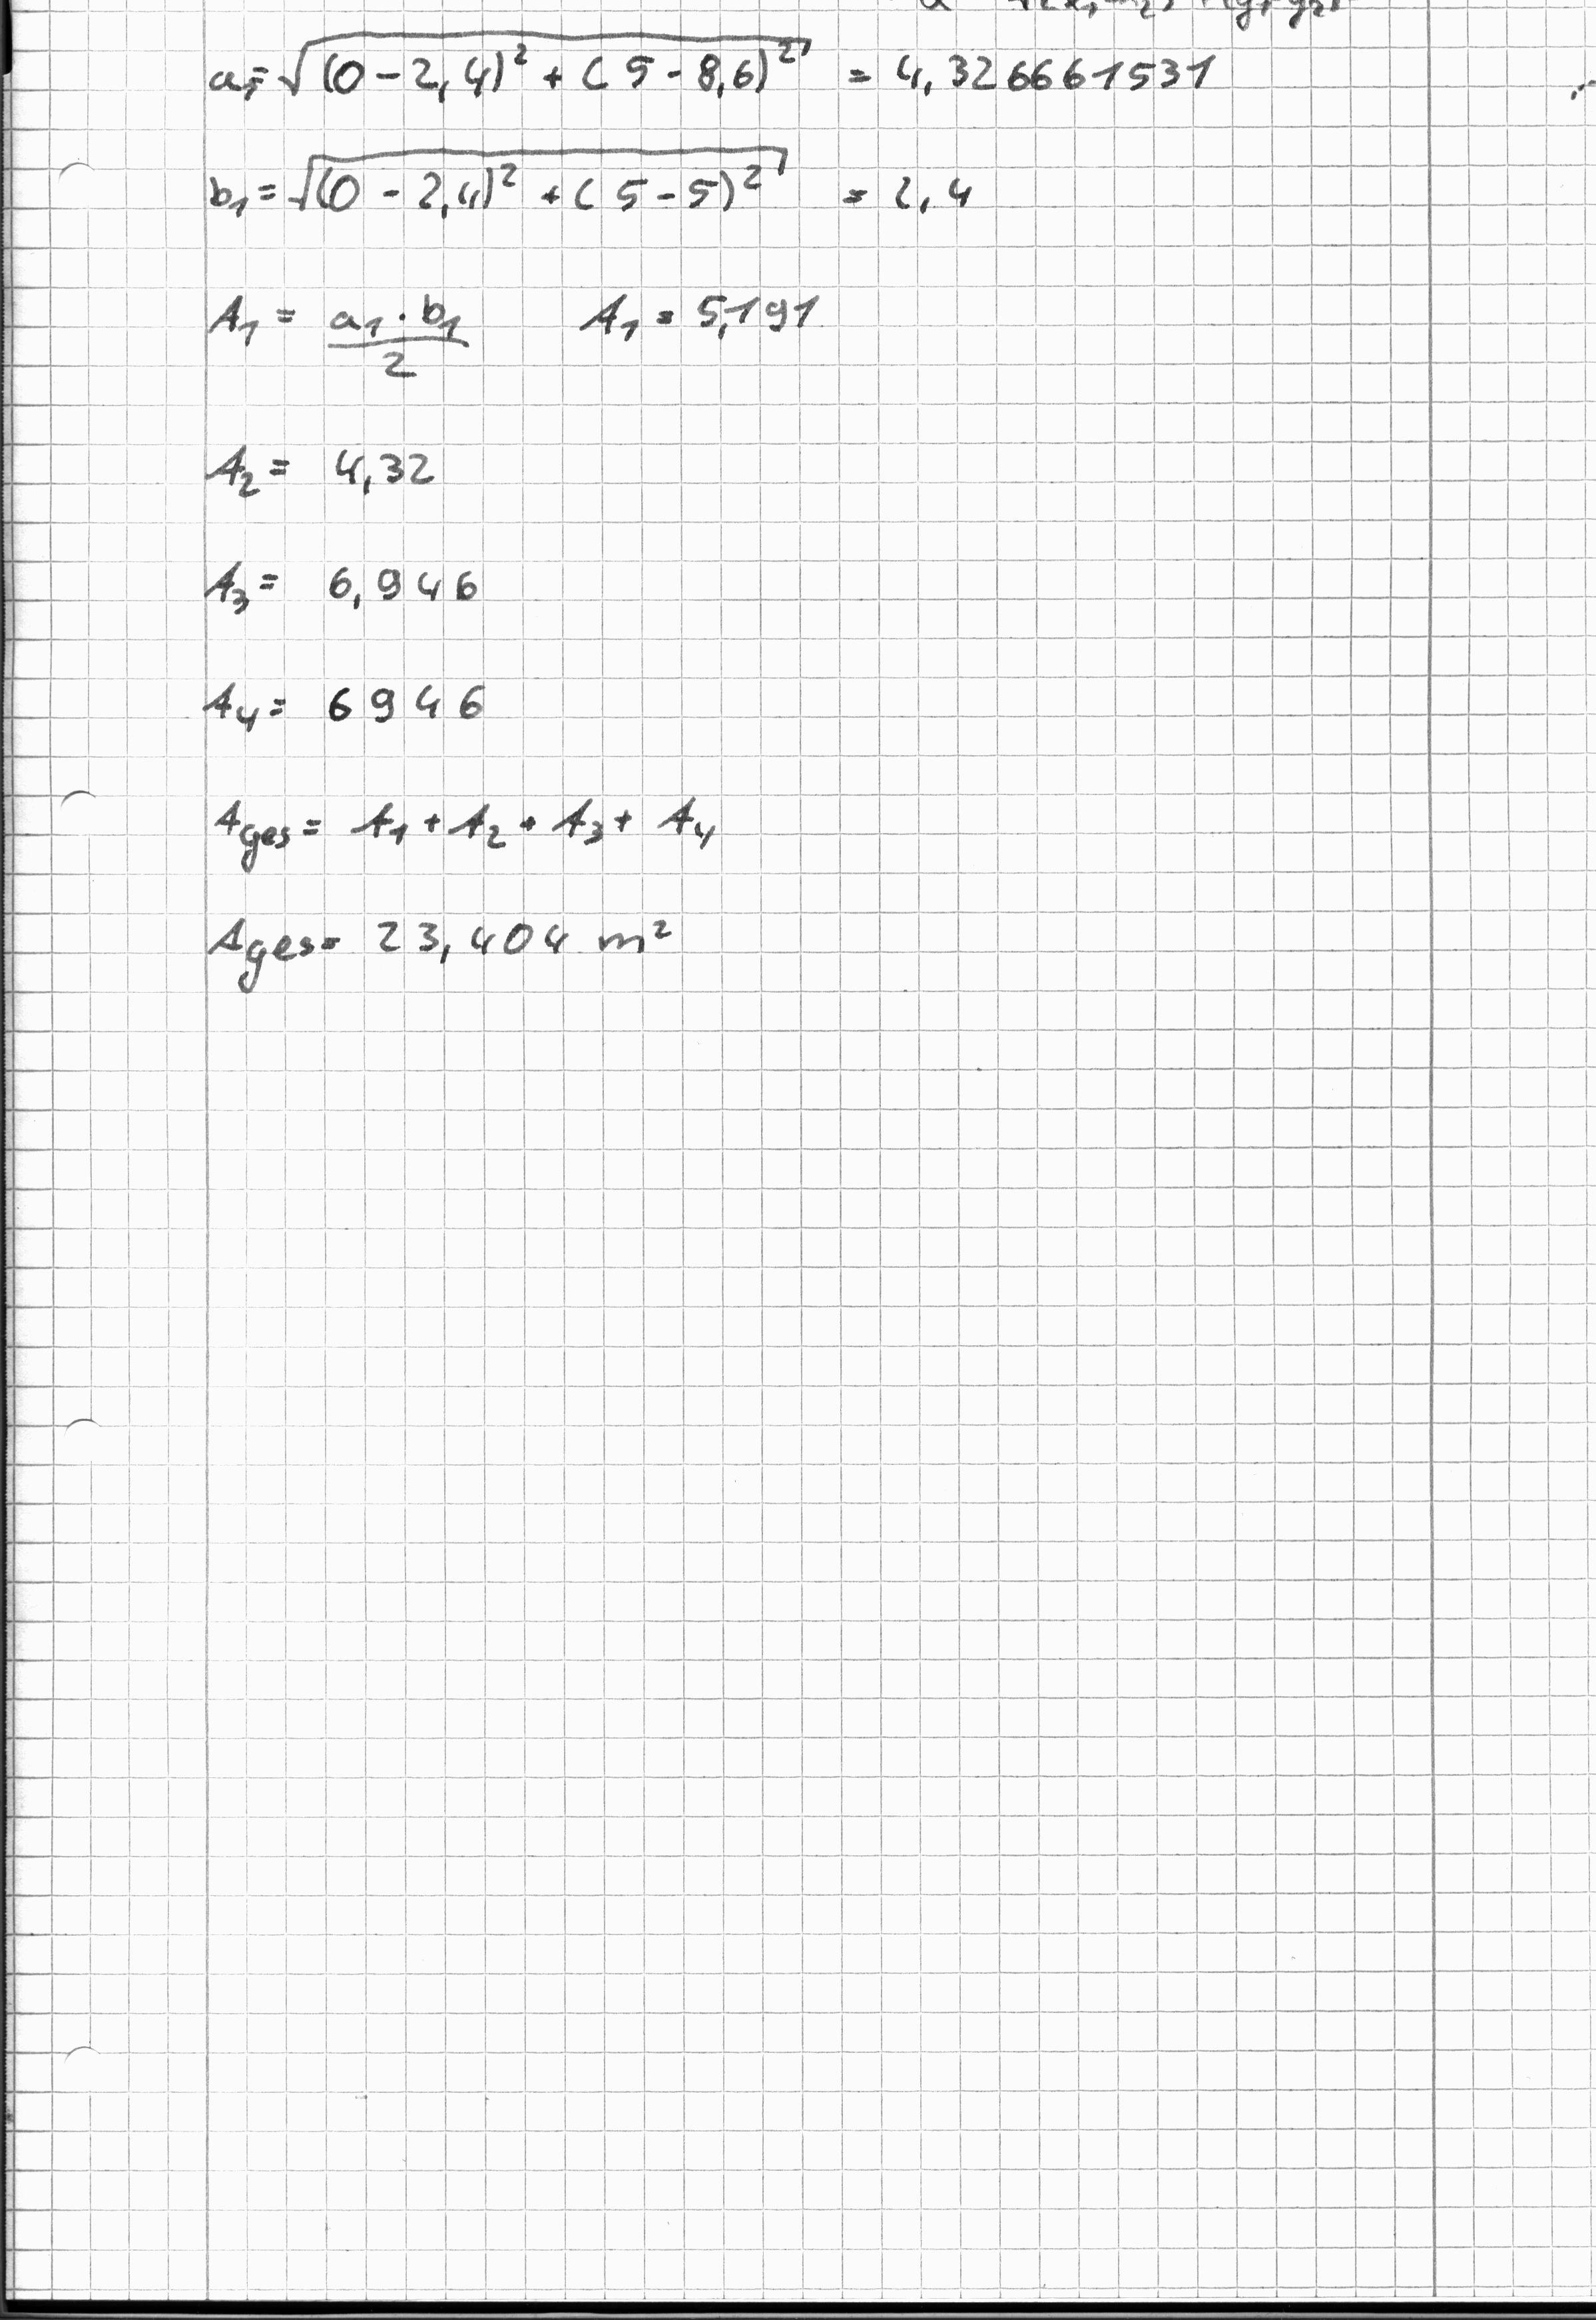word: (194, 796, 738, 1031), (190, 12, 1236, 121), (188, 124, 993, 247), (199, 264, 832, 398), (192, 543, 499, 746), (187, 408, 456, 520)
